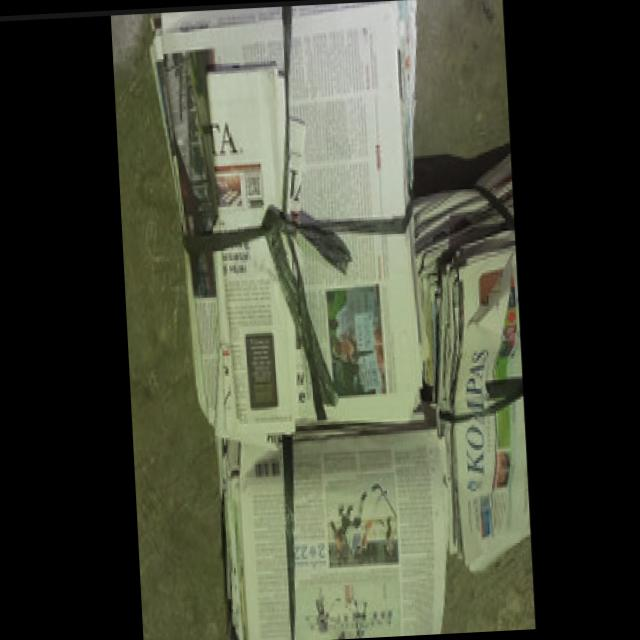Koran: (147, 0, 537, 640)
